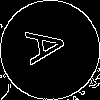A: (25, 25, 76, 66)
